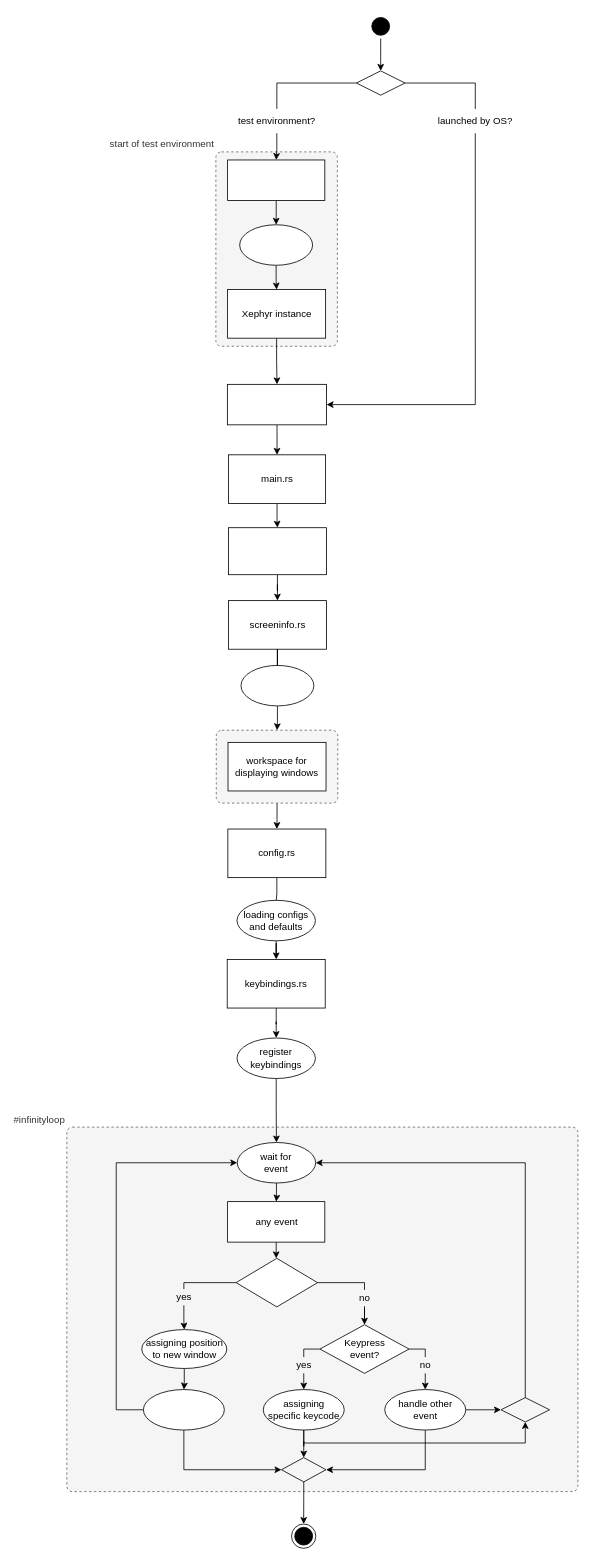
The diagram is 592 pixels wide and 1562 high, and some of its shapes have lost their labels. Each missing label, with the box of its shape:
#screeninfostruct: (215, 729, 338, 803)
creating once per monitor: (240, 665, 314, 706)
Map request?: (235, 1258, 318, 1307)
remapping existing windows: (143, 1389, 224, 1430)
runx.sh: (227, 159, 325, 200)
starting: (239, 224, 313, 265)
windowmanager.rs: (228, 527, 326, 575)
xinitrc: (227, 384, 327, 425)
